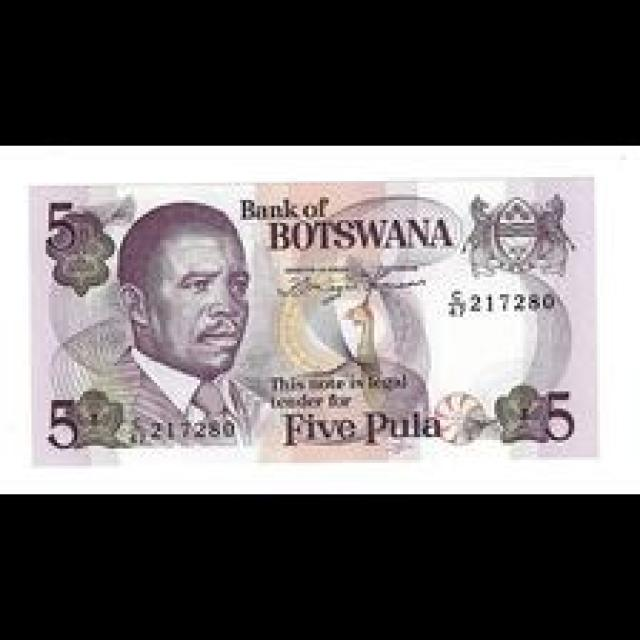banknote: (27, 172, 586, 461)
